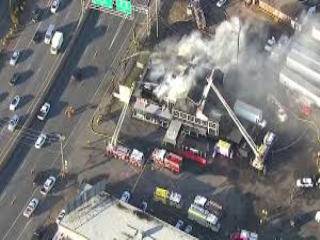smoke: (147, 26, 249, 105)
